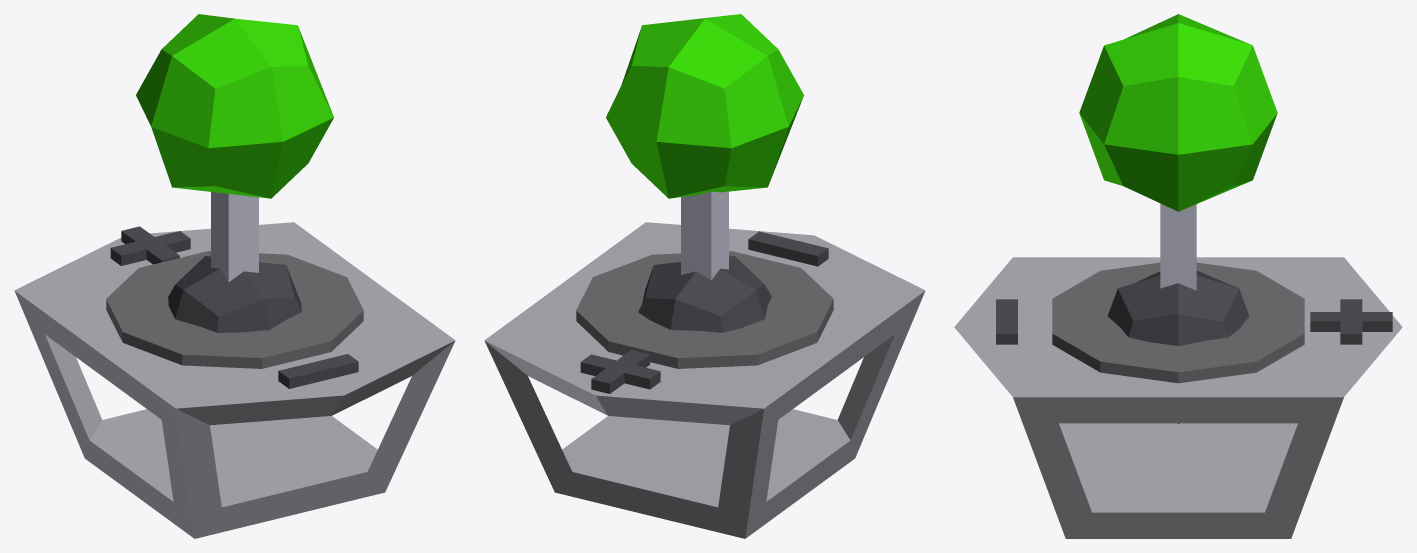
File: item_joystick_inv_y.glb
3 views of the same model, side by side, from view 1: azimuth 30°, elevation 25°; view 2: azimuth 150°, elevation 25°; view 3: azimuth 270°, elevation 25° (orthographic). The views are drawn at different scales.
Visible parts, largest first — view 1: joystick_base.002, joystick_stick.001; view 2: joystick_base.002, joystick_stick.001; view 3: joystick_base.002, joystick_stick.001.
Part boxes in pixels (x1,y1,x2,y2): joystick_base.002: (14, 222, 455, 538); joystick_stick.001: (136, 14, 333, 332); joystick_base.002: (484, 222, 925, 538); joystick_stick.001: (606, 14, 803, 332); joystick_base.002: (954, 257, 1402, 538); joystick_stick.001: (1079, 14, 1277, 423).
Size of the model in its own units: 0.0951 by 0.1483 by 0.1287.
